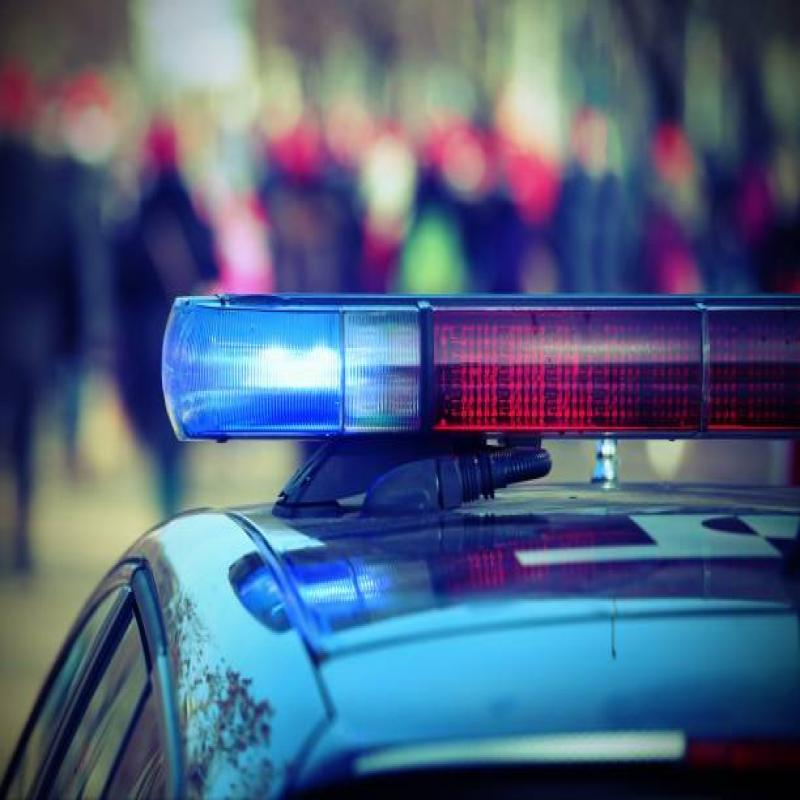AmbulanceSiren: (115, 191, 800, 550)
